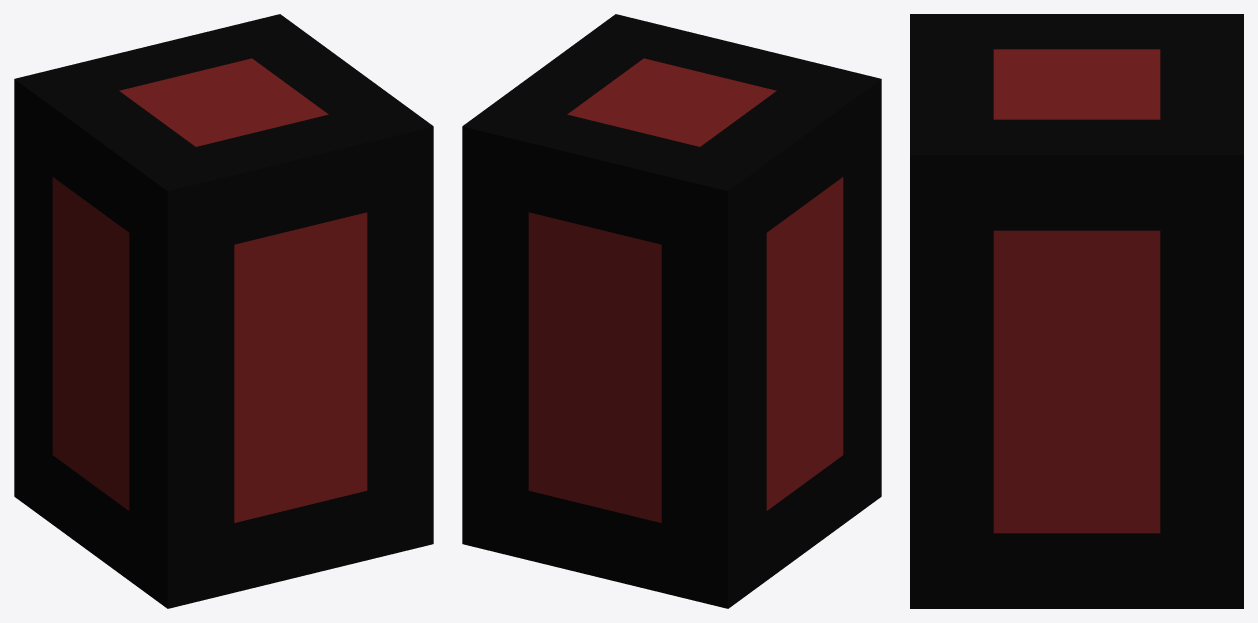
Rendered from Fire-2.obj.
The picture shows the model from 3 angles, left to right: view 1: azimuth 30°, elevation 25°; view 2: azimuth 150°, elevation 25°; view 3: azimuth 270°, elevation 25°; orthographic projection. The views are drawn at different scales.
Size of the model in its own units: 0.4 by 0.6 by 0.4.
1 material, 1 textured.
